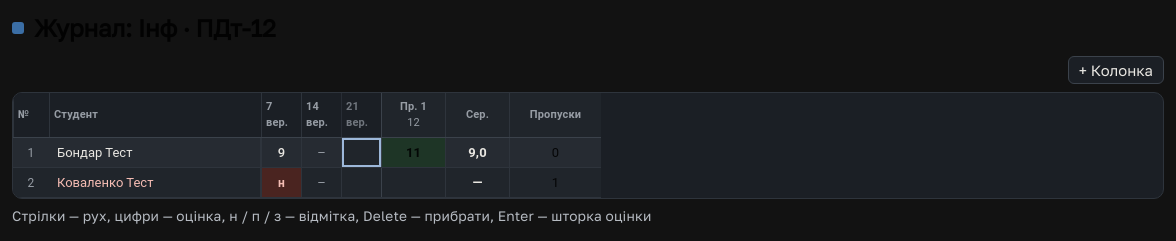
Test: GradebookScreen › цифра в клітинці колонки оцінювання виставляє оцінку через чергу синхронізації
Expected: the table is shown, [12, 92, 1164, 199]
Click the cell with test id "assessment-1-a1". click: x=413, y=182
box: [381, 168, 445, 197]
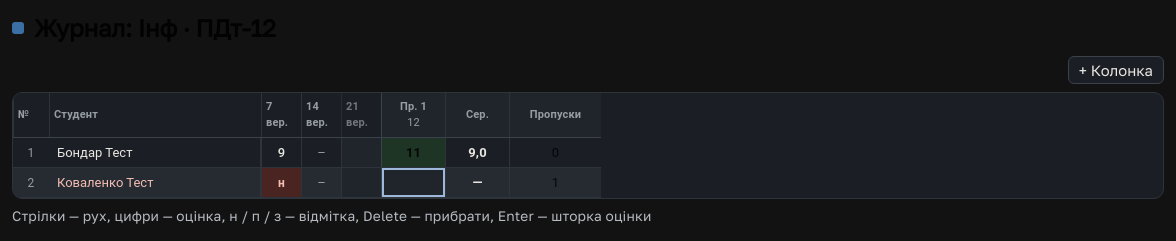
Press 9 in the table, box [12, 92, 1164, 199]
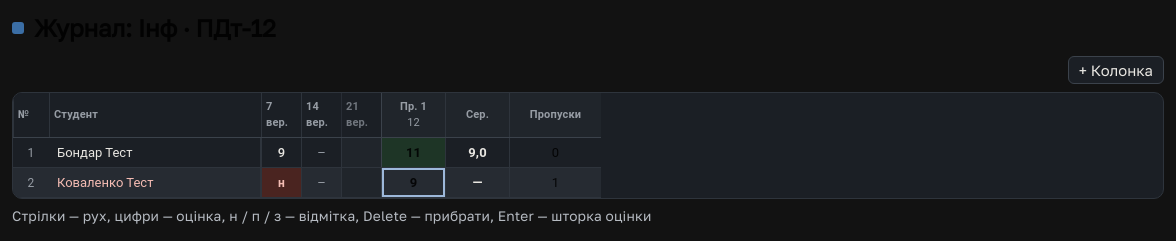
Result: the cell with test id "assessment-1-a1" reads "9" at [410, 175, 417, 190]
